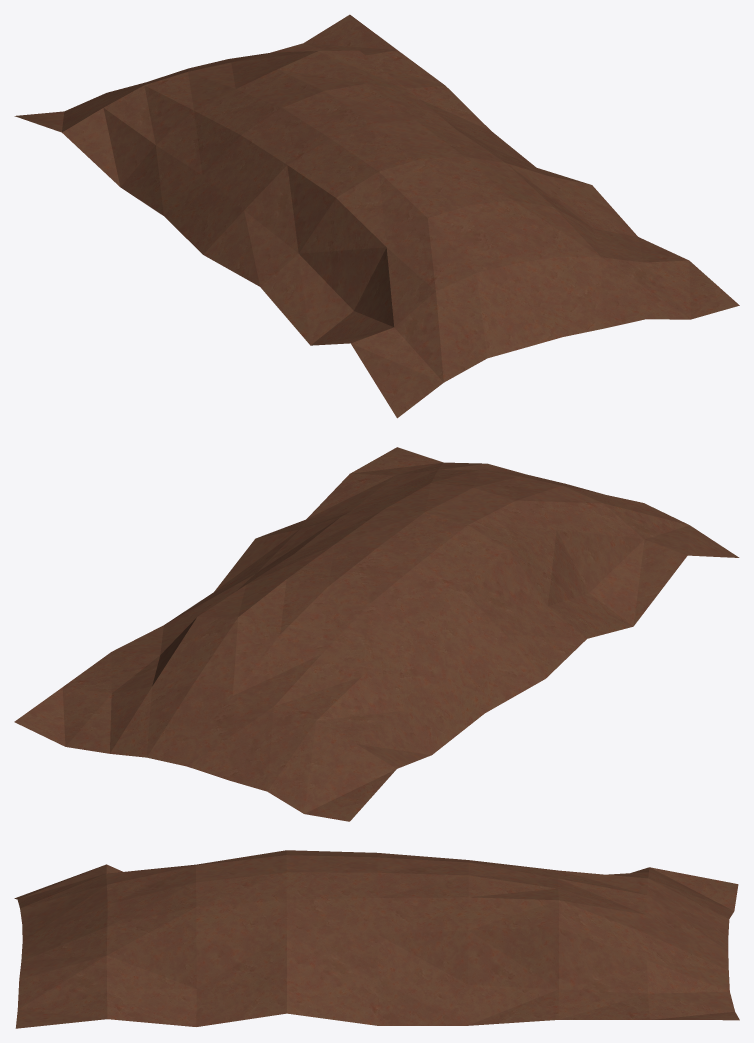
The model's file is Dirt_Mound1.fbx.
3 renders of one model, top to bottom at view 1: azimuth 30°, elevation 25°; view 2: azimuth 150°, elevation 25°; view 3: azimuth 270°, elevation 25°, orthographic. The views are drawn at different scales.
Visible parts, largest first — view 1: DirtMound1; view 2: DirtMound1; view 3: DirtMound1.
Part boxes in pixels (x1,y1,x2,y2): DirtMound1: [14, 14, 739, 418]; DirtMound1: [14, 447, 739, 821]; DirtMound1: [14, 850, 739, 1028].
Size of the model in its own units: 134 by 41.7 by 263.
